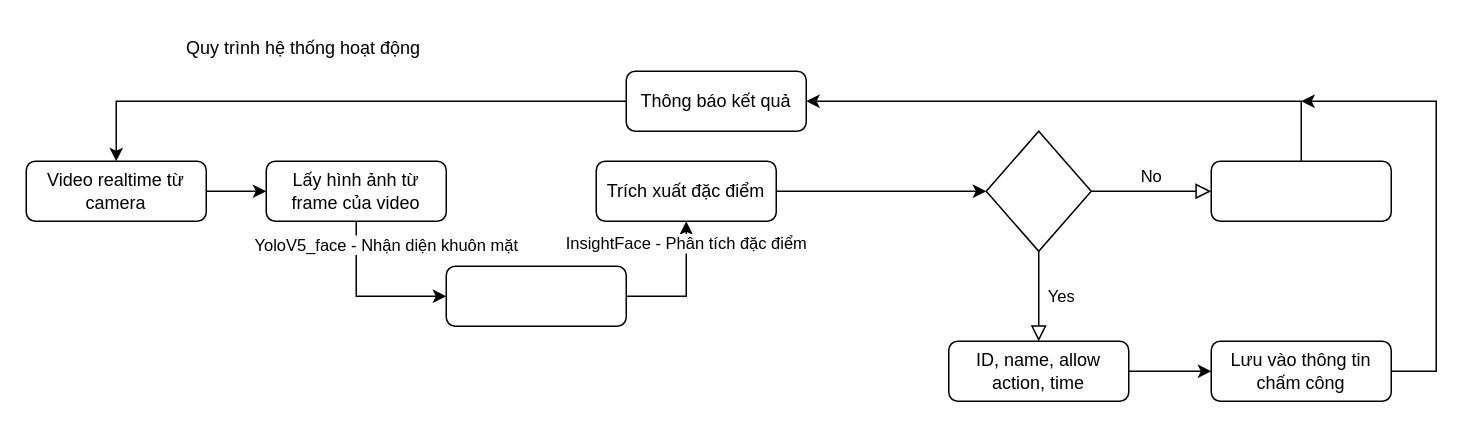
This 1475x428 diagram has some shape labels left out. The shapes that lost their labels are listed below. From the top down, each one's centre as x and y in pixels, then its label:
At (x=1038, y=190): "So sánh đặc điểm với data đã train".
At (x=1300, y=190): "Unknow".
At (x=535, y=295): "Phát hiện khuôn mặt".
